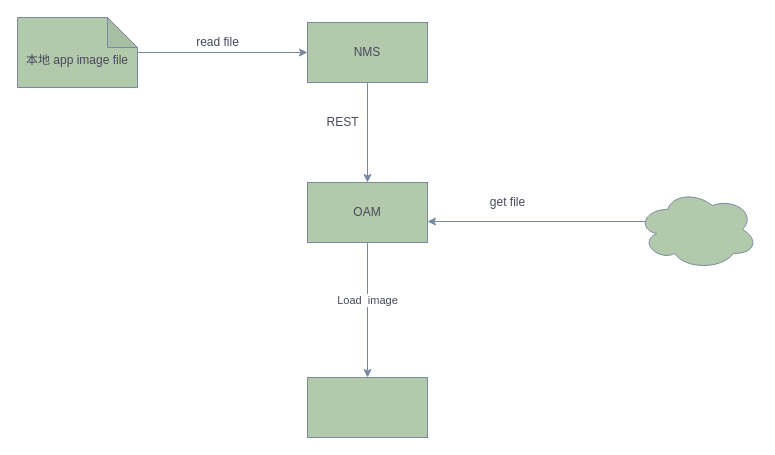
Some shapes in this 775 by 455 pixel diagram are drawn without their labels. The centre of each missing label's shape, as x and y in pixels:
docker 镜像仓库: the point at 367,407
远程app image file: the point at 697,229
